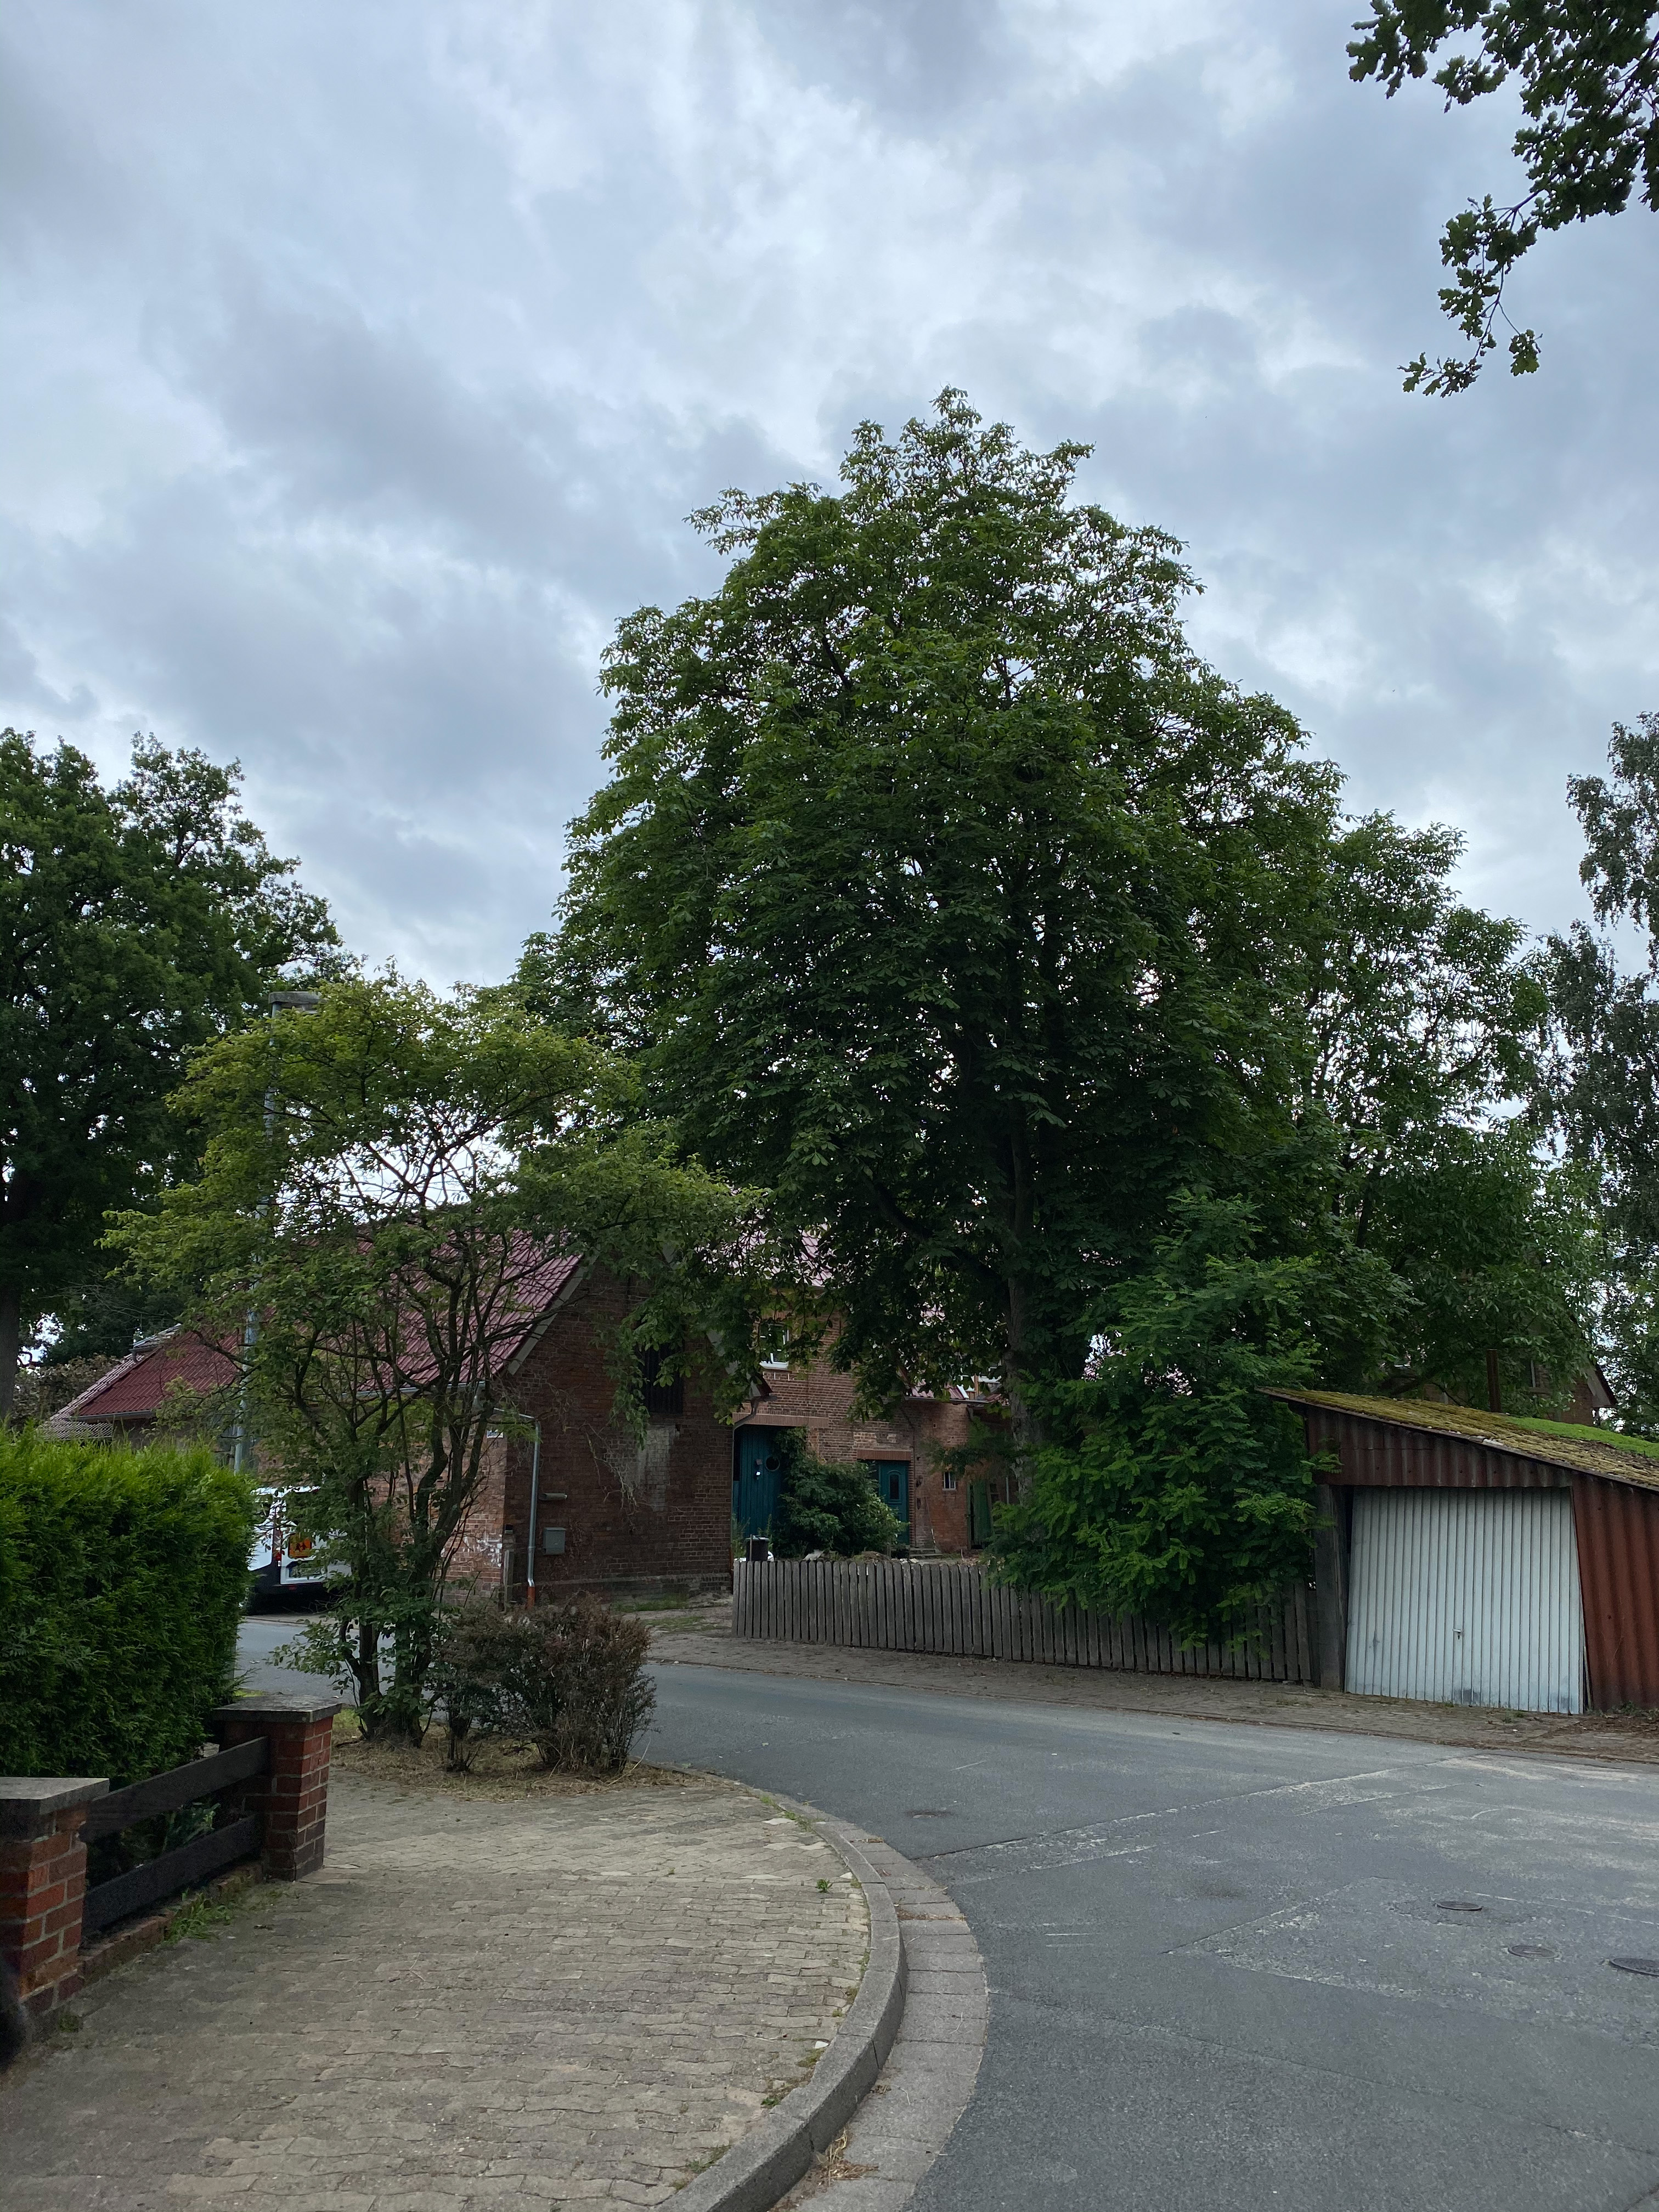tree: (491, 385, 1530, 1561), (92, 954, 775, 1749), (0, 726, 397, 1433), (979, 1183, 1344, 1660), (1347, 0, 1659, 397), (1521, 712, 1659, 1444)
